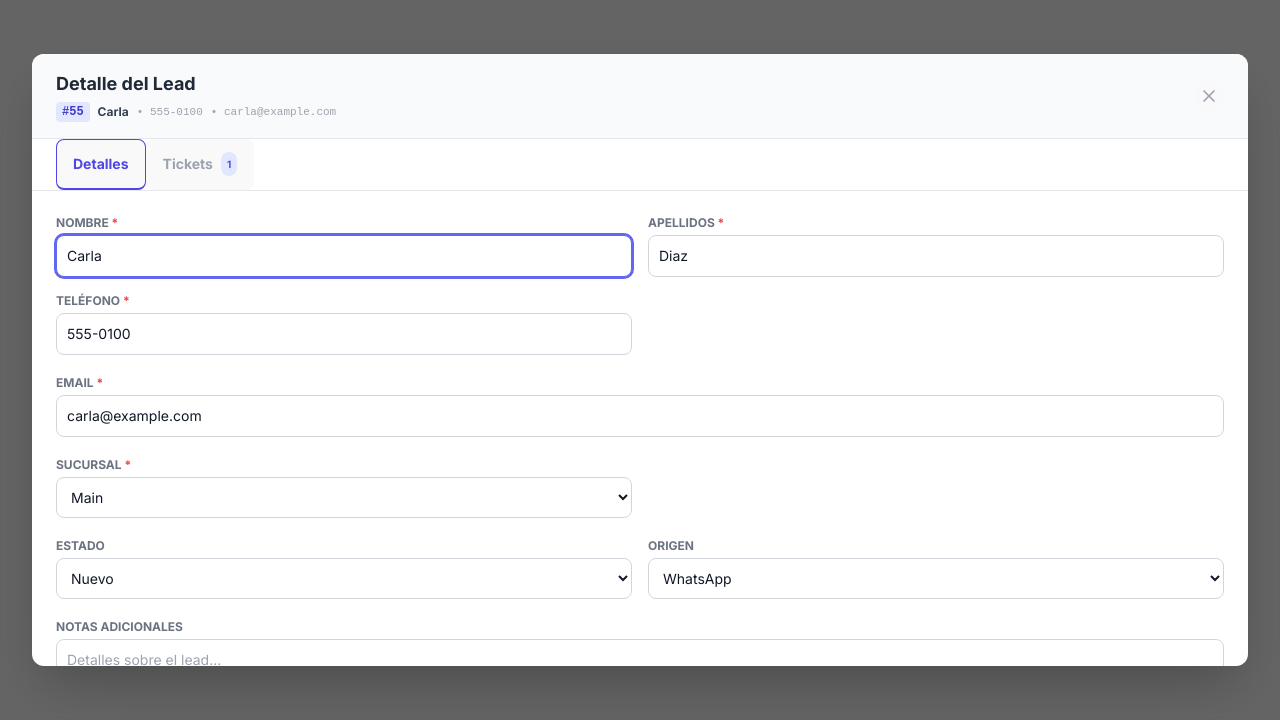
it: LeadModal — ticket assignment dialog › Cancelar closes the dialog and produces zero requests
Click the button "Tickets 1": [200, 164] box [146, 139, 254, 190]
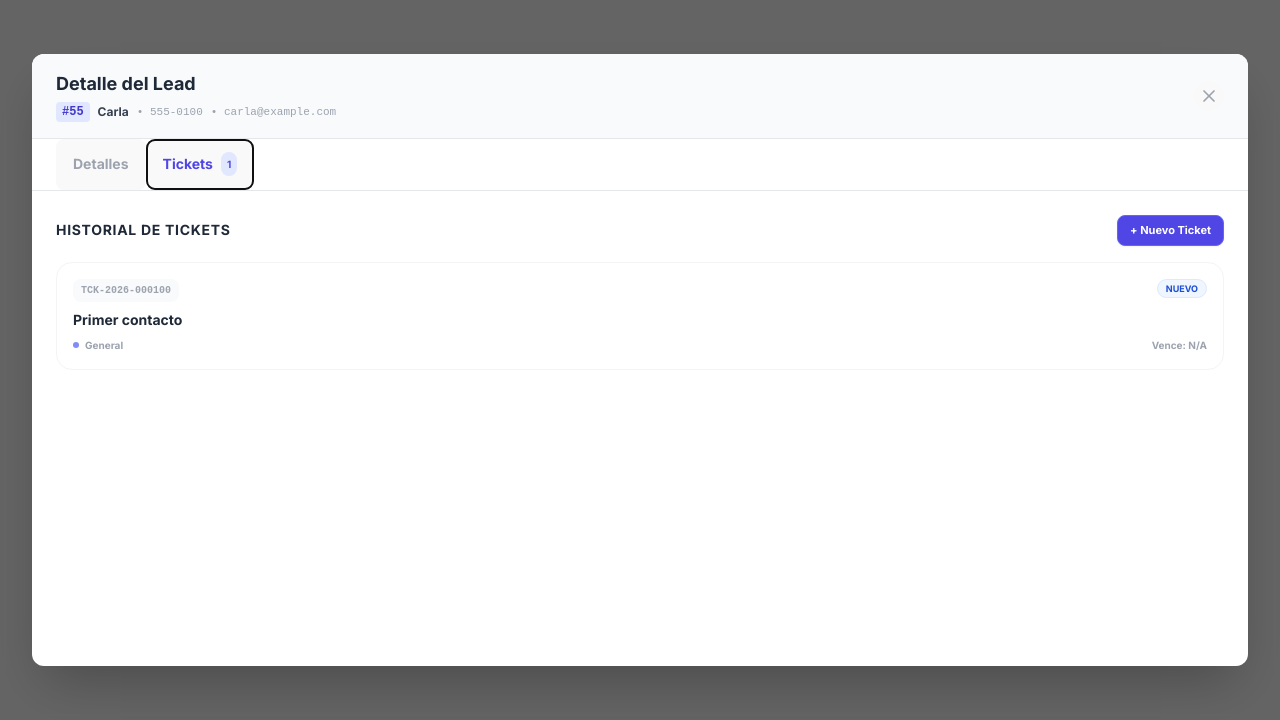
Click the text "TCK-2026-000100": [126, 290] box [73, 278, 179, 302]
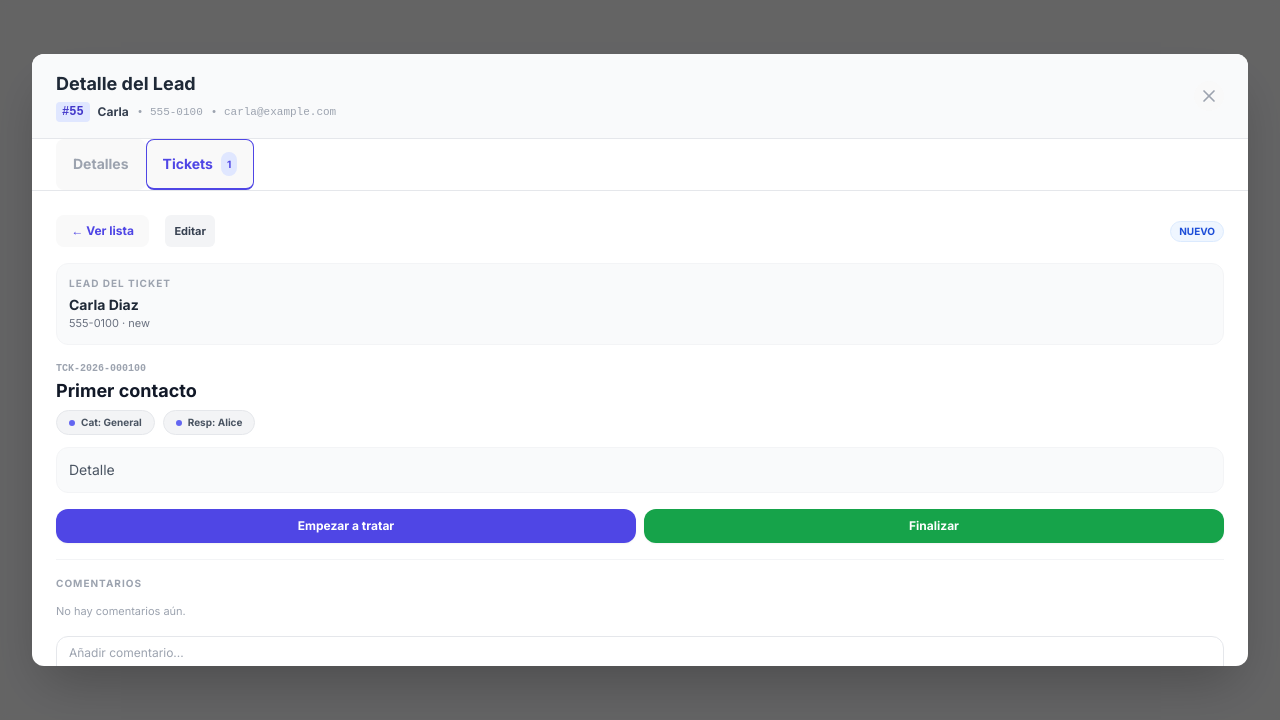
Click the button "Editar": [190, 231] box [165, 215, 215, 247]
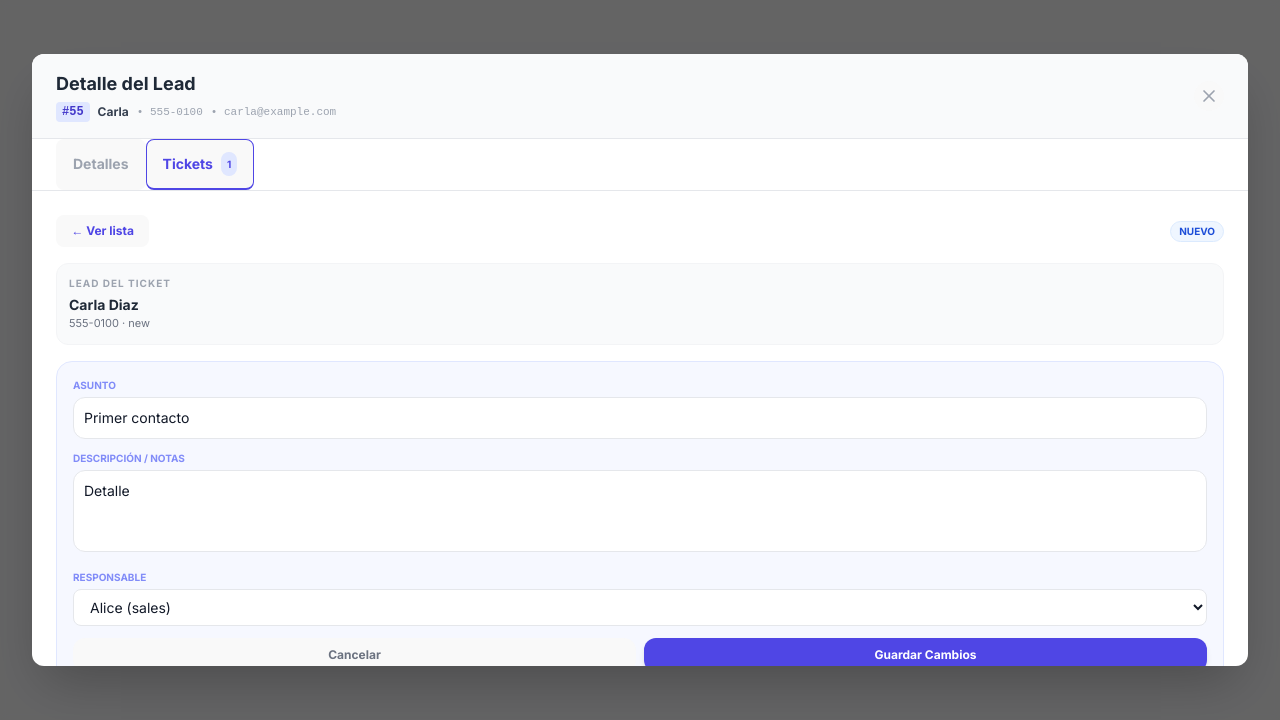
Select "Bruno (sales)" in the dropdown with test id "ticket-assignment-select": [640, 607] box [73, 589, 1207, 626]
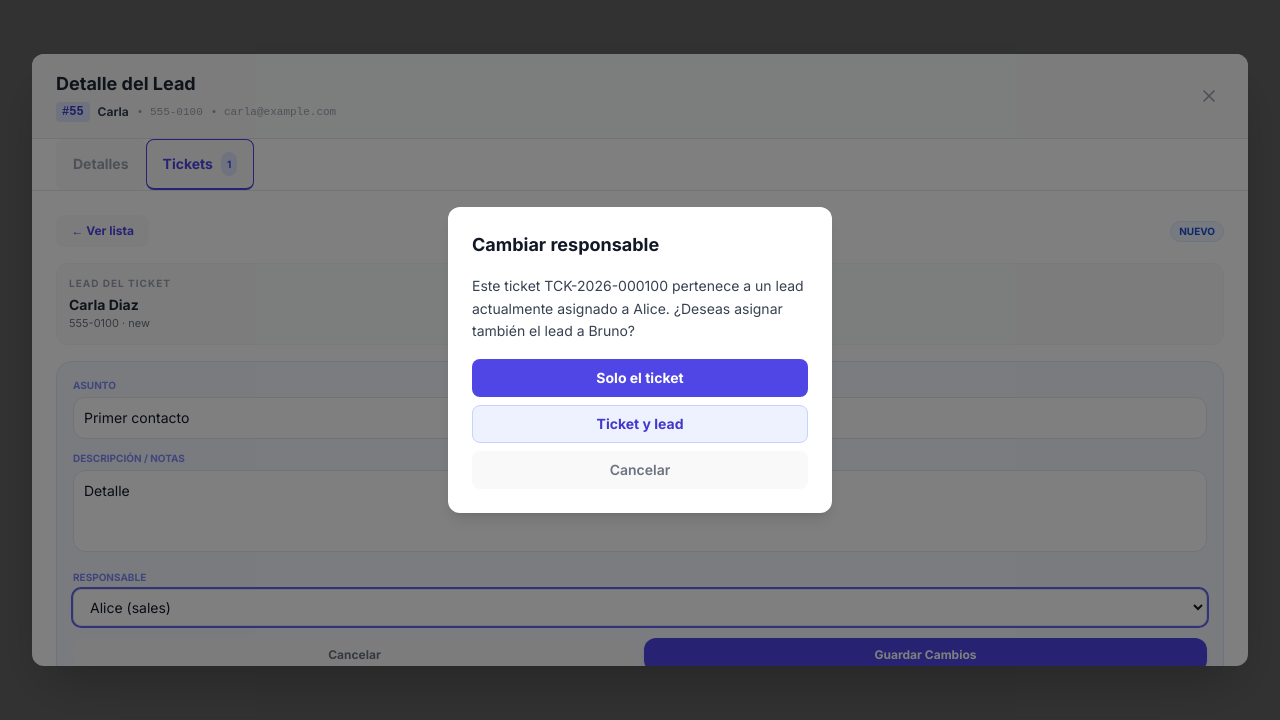
Expected: the dialog with test id "assignment-dialog" is shown, [448, 207, 832, 513]
Click the button with test id "assignment-dialog-cancel": [640, 470] box [472, 451, 808, 489]
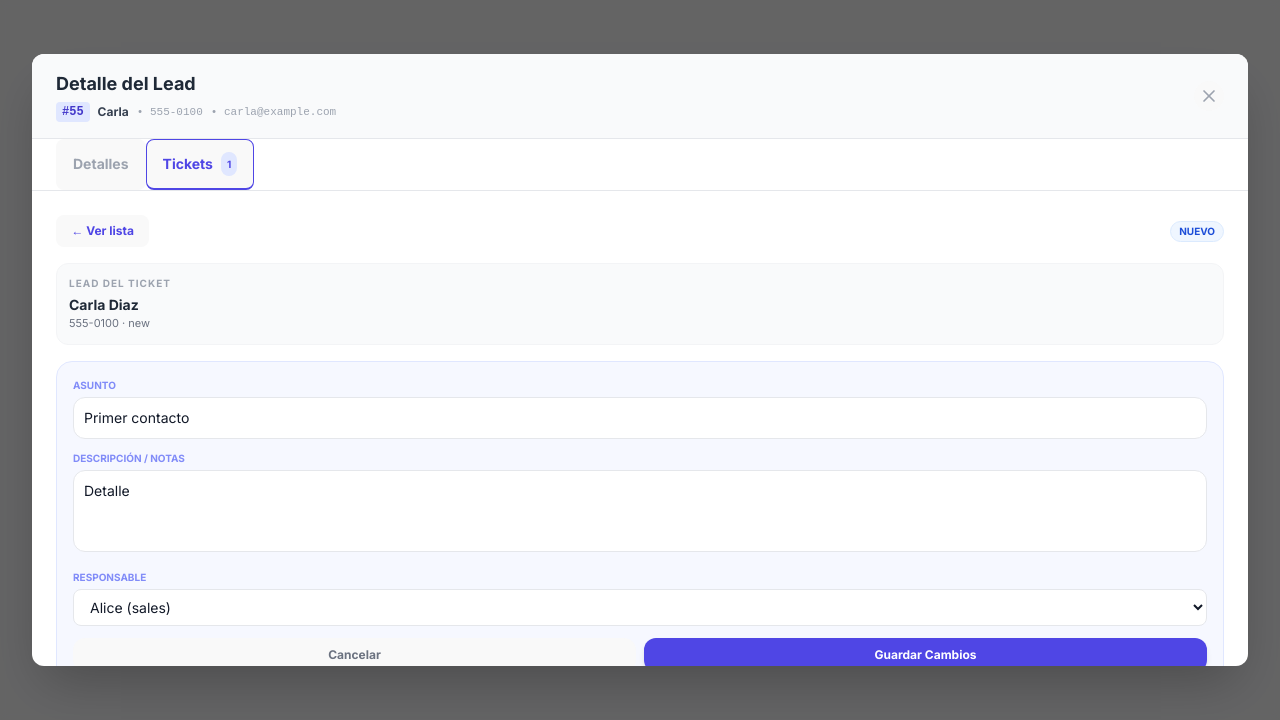
Expected: the dialog with test id "assignment-dialog" is gone
